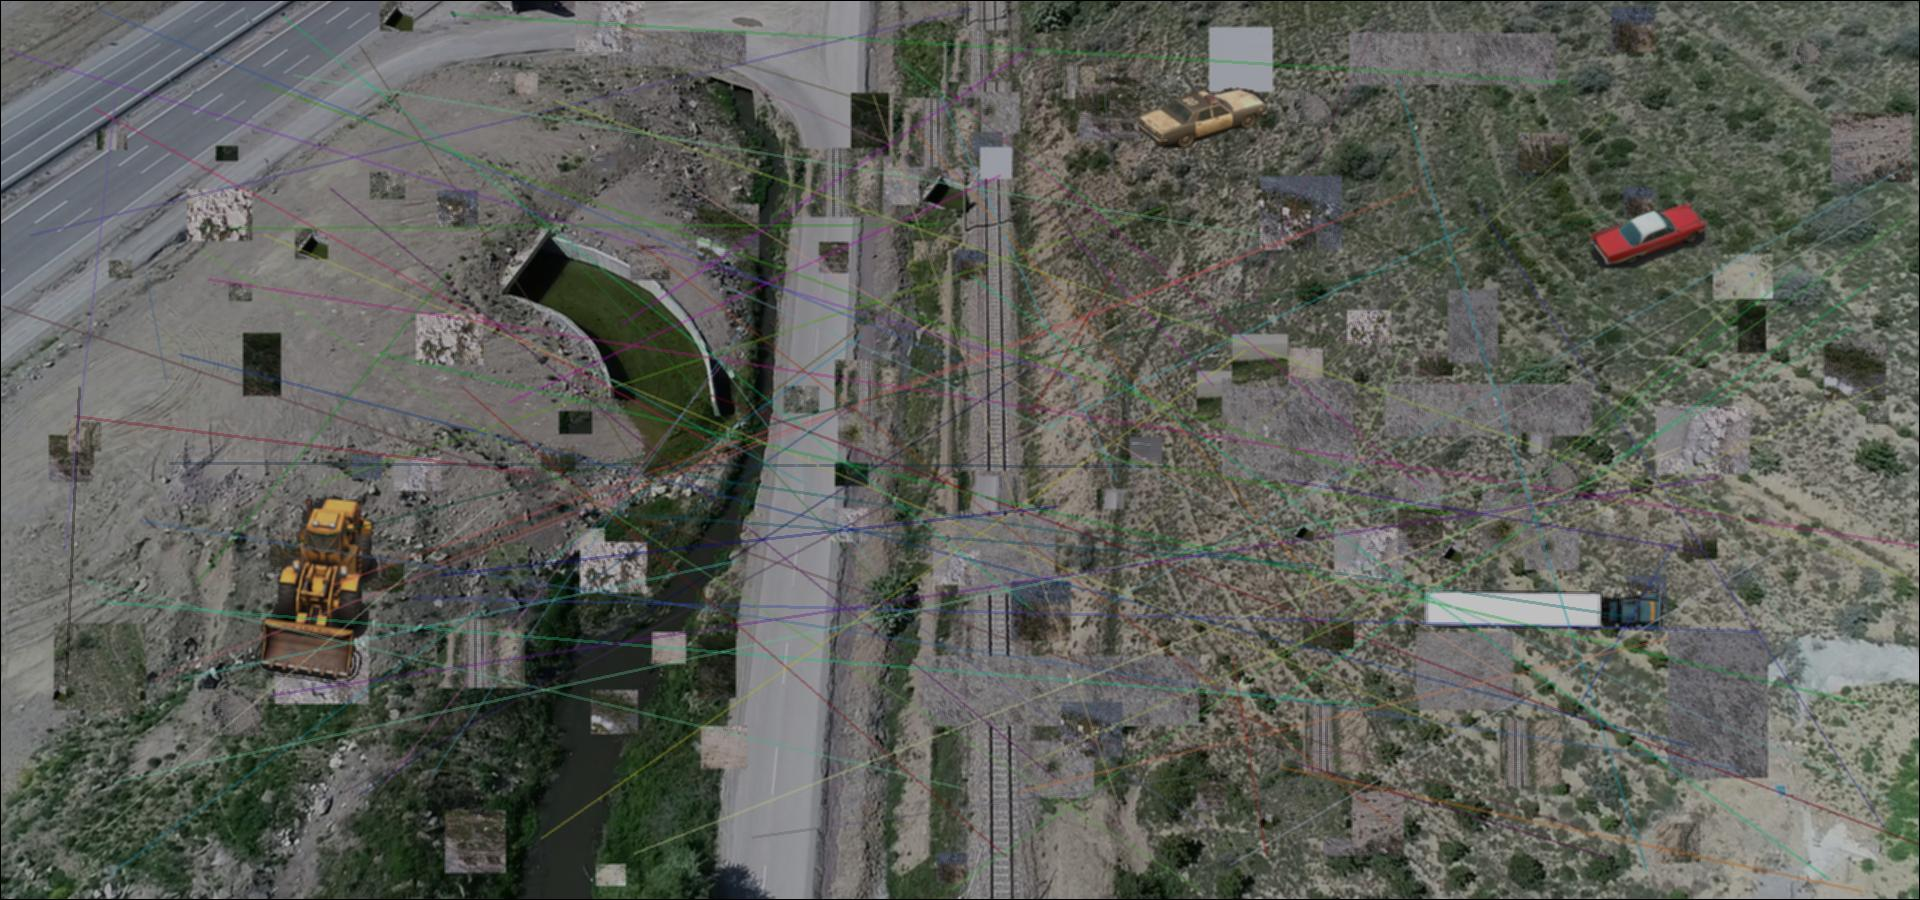arac: (238, 481, 384, 687), (1420, 584, 1667, 634), (1138, 82, 1273, 148), (1591, 203, 1704, 268)
